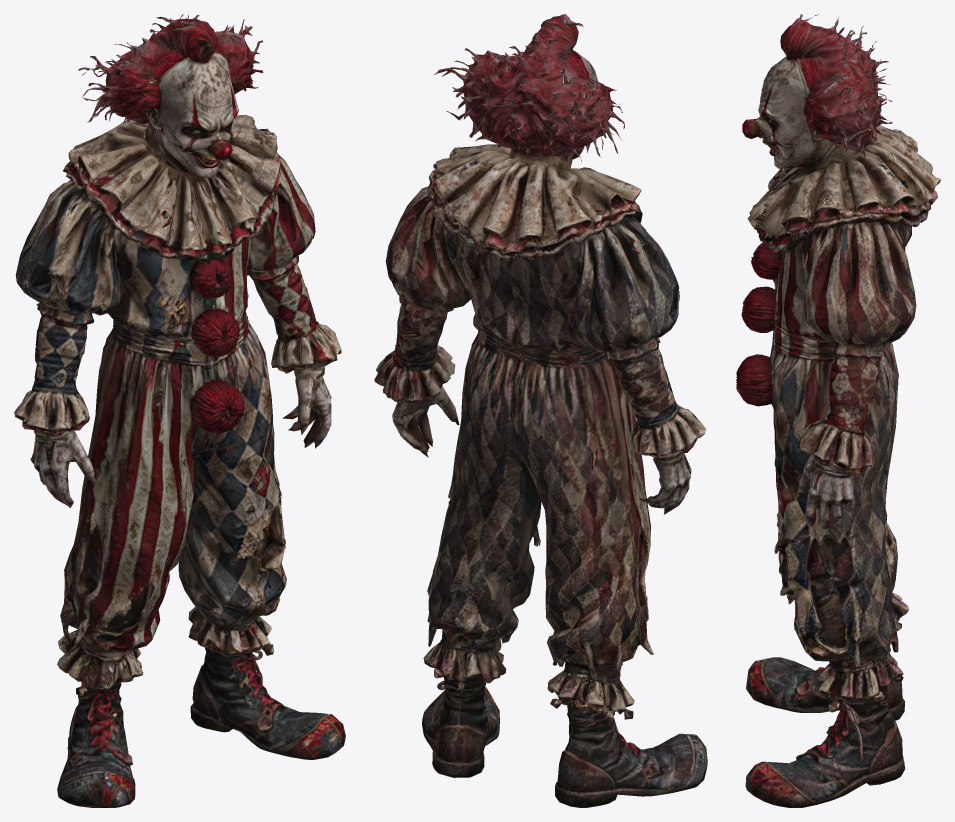
Rendered from clown.glb.
The picture shows the model from 3 angles, left to right: view 1: azimuth 30°, elevation 25°; view 2: azimuth 150°, elevation 25°; view 3: azimuth 270°, elevation 25°; orthographic projection. The views are drawn at different scales.
Parts seen in each view (by area): view 1: clown; view 2: clown; view 3: clown.
Boxes of the visible parts, x1,y1,x2,y2 form: clown: (14,14,345,807); clown: (374,14,707,807); clown: (736,14,940,807).
Size of the model in its own units: 0.4415 by 0.9778 by 0.2511.
1 material, 1 textured.
